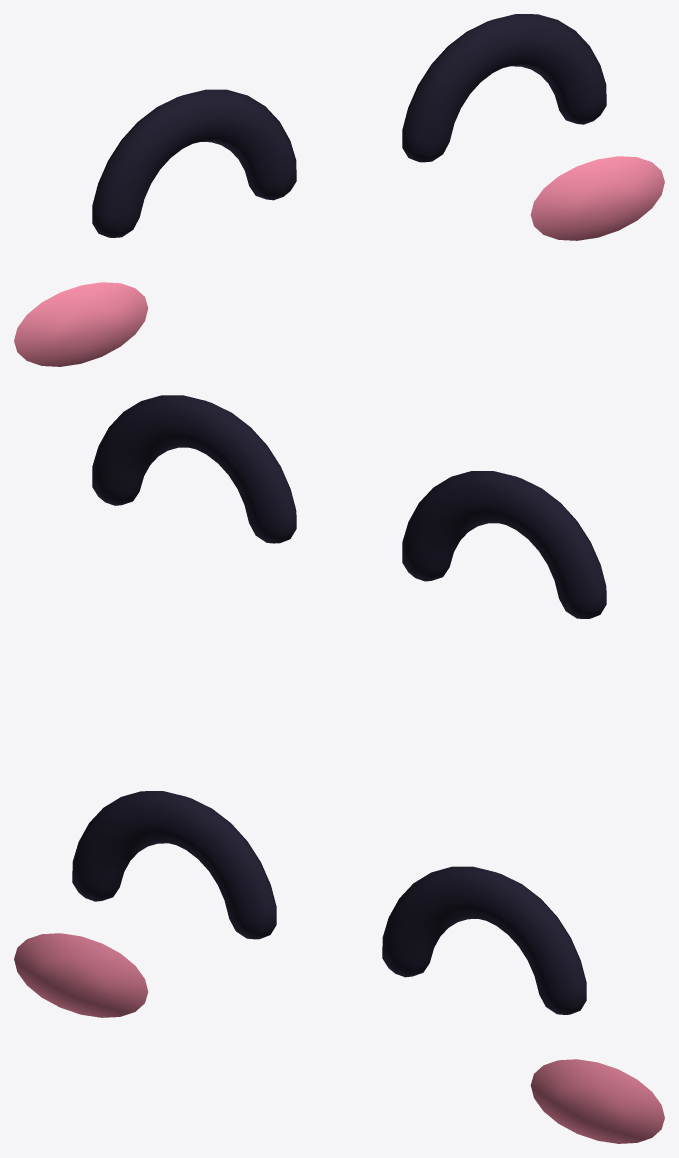
The model's file is eyes_happy.glb.
3 views of the same model, one above another, from view 1: azimuth 30°, elevation 25°; view 2: azimuth 150°, elevation 25°; view 3: azimuth 330°, elevation 25° (orthographic).
Visible parts, largest first — view 1: eyes_happy; view 2: eyes_happy; view 3: eyes_happy.
Boxes of the visible parts, bbox=[...] form: eyes_happy: bbox=[14, 14, 664, 366]; eyes_happy: bbox=[92, 395, 606, 618]; eyes_happy: bbox=[14, 791, 664, 1143].
Size of the model in its own units: 0.504 by 0.1875 by 0.0266.
